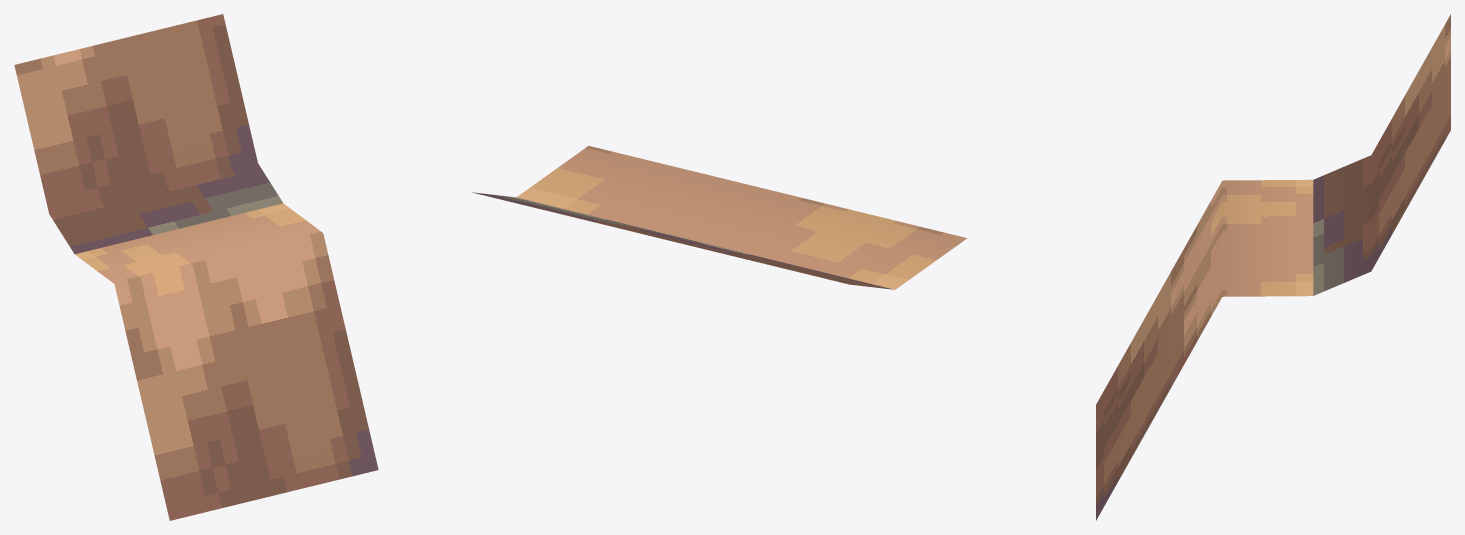
The picture shows the model from 3 angles, left to right: view 1: azimuth 30°, elevation 25°; view 2: azimuth 150°, elevation 25°; view 3: azimuth 270°, elevation 25°; orthographic projection. The views are drawn at different scales.
Size of the model in its own units: 1 by 1.57 by 1.29.
Materials: 1 (1 with a texture image).
